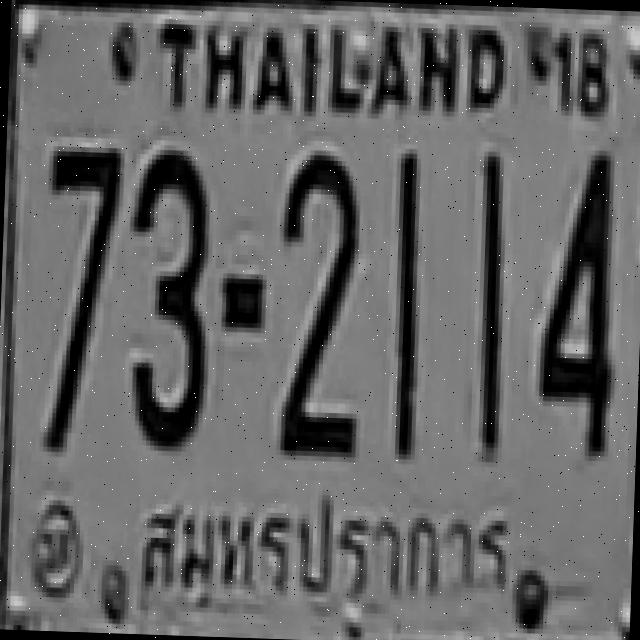1: (474, 149, 506, 387), (389, 148, 421, 382)
2: (276, 217, 359, 452)
3: (122, 146, 212, 444), (122, 178, 210, 446)
4: (533, 146, 619, 454)
7: (44, 143, 120, 315)
SamutPrakan: (130, 478, 519, 625)
